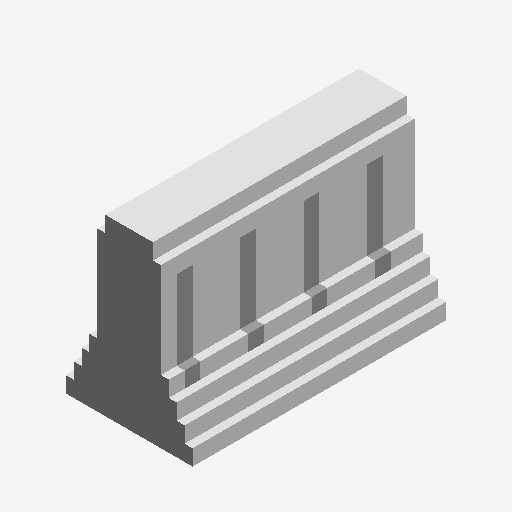
A Minecraft block model of 6 cuboids, rendered isometrically (azimuth 45°, elevation 35.3°) with the resource pack's own textures.
Parts seen in each view (by area): element 5, element 6, element 1, element 2, element 3, element 4.
Boxes of the visible parts, <box> form: element 5: <box>97,114,414,374</box>; element 6: <box>105,69,406,259</box>; element 1: <box>66,297,445,466</box>; element 2: <box>74,274,437,443</box>; element 3: <box>82,251,429,420</box>; element 4: <box>89,229,422,397</box>.
Size of the model in its own units: 16 by 11 by 8.